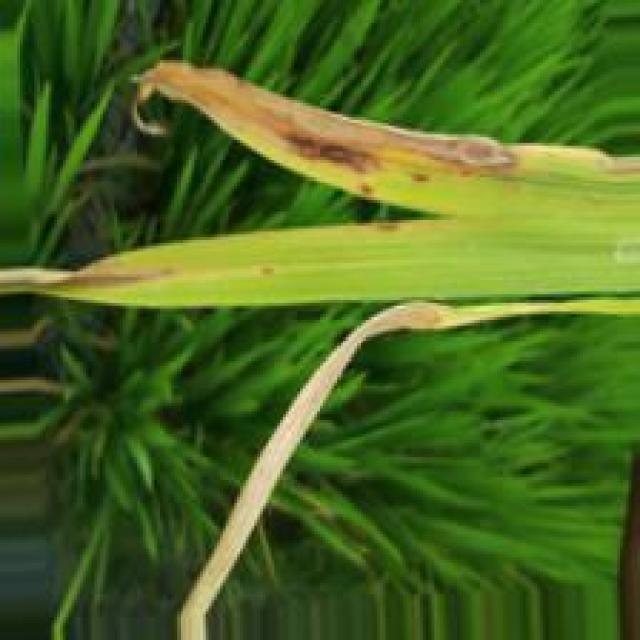Leaf_Scald: (176, 301, 474, 640), (137, 62, 640, 188)
